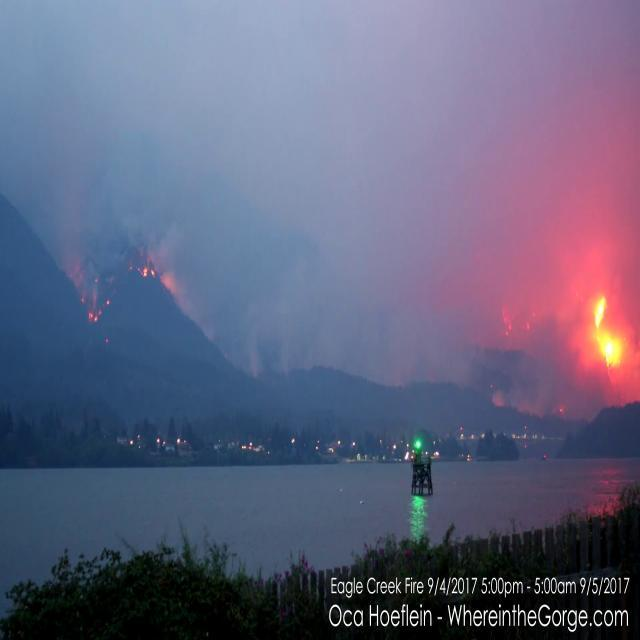Fire: (138, 266, 156, 280), (89, 309, 102, 324)
